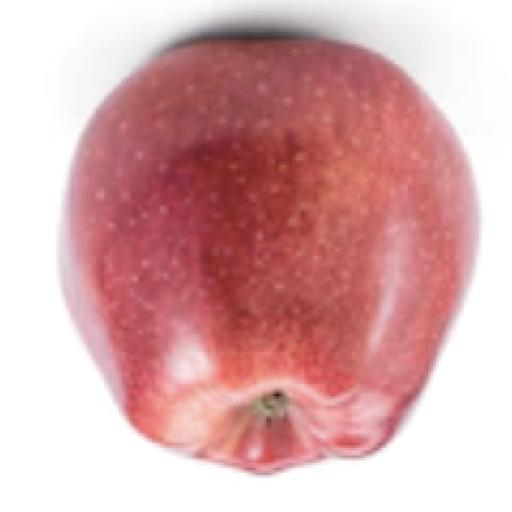apple: (61, 39, 476, 471)
